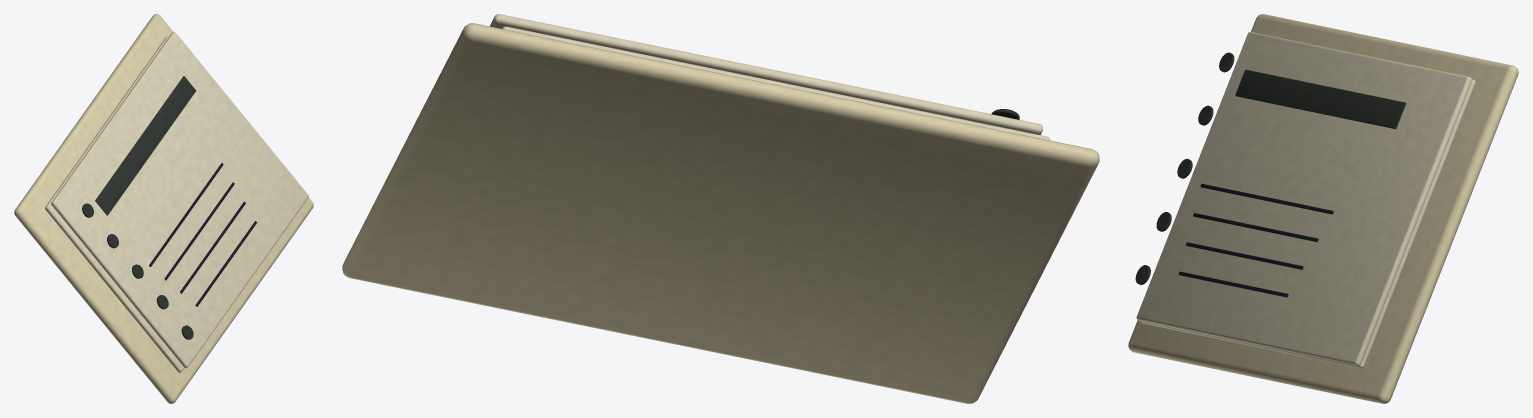
3 views of the same model, side by side, from view 1: azimuth 30°, elevation 25°; view 2: azimuth 150°, elevation 25°; view 3: azimuth 270°, elevation 25° (orthographic). The views are drawn at different scales.
Visible parts, largest first — view 1: Folded document backing; view 2: Folded document backing; view 3: Folded document backing.
Boxes of the visible parts, x1,y1,x2,y2 form: Folded document backing: (14,14,313,403); Folded document backing: (342,14,1099,403); Folded document backing: (1128,14,1518,403).
Size of the model in its own units: 1.35 by 0.9884 by 0.9515.
Materials: 1 (1 with a texture image).
